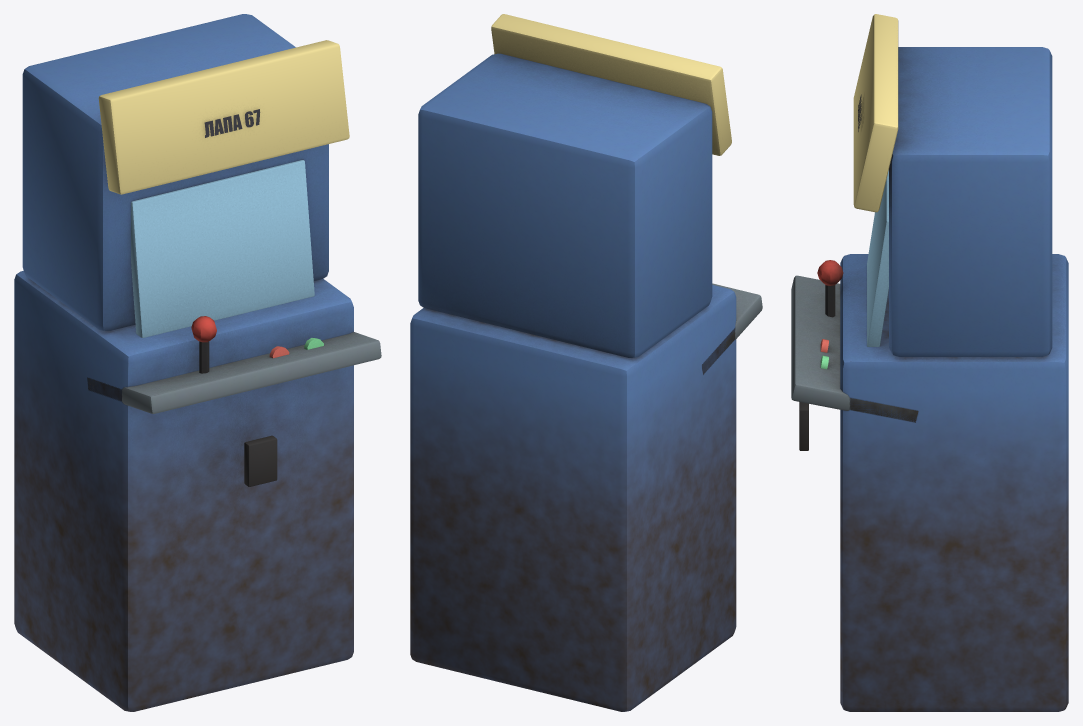
The model's file is g67_pz_arcade_a.glb.
3 renders of one model, left to right at view 1: azimuth 30°, elevation 25°; view 2: azimuth 150°, elevation 25°; view 3: azimuth 270°, elevation 25°, orthographic. The views are drawn at different scales.
Visible parts, largest first — view 1: g67_pz_arcade_a; view 2: g67_pz_arcade_a; view 3: g67_pz_arcade_a.
Boxes of the visible parts, box(x1,y1,x2,y2) form: g67_pz_arcade_a: box(14, 14, 381, 711); g67_pz_arcade_a: box(410, 14, 762, 711); g67_pz_arcade_a: box(791, 14, 1068, 711).
Size of the model in its own units: 0.8 by 2 by 0.8498.
1 material, 1 textured.
